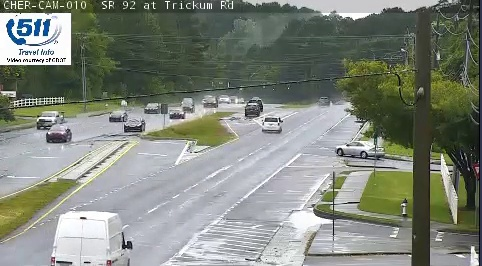car: (262, 117, 282, 133)
van: (53, 210, 130, 266)
